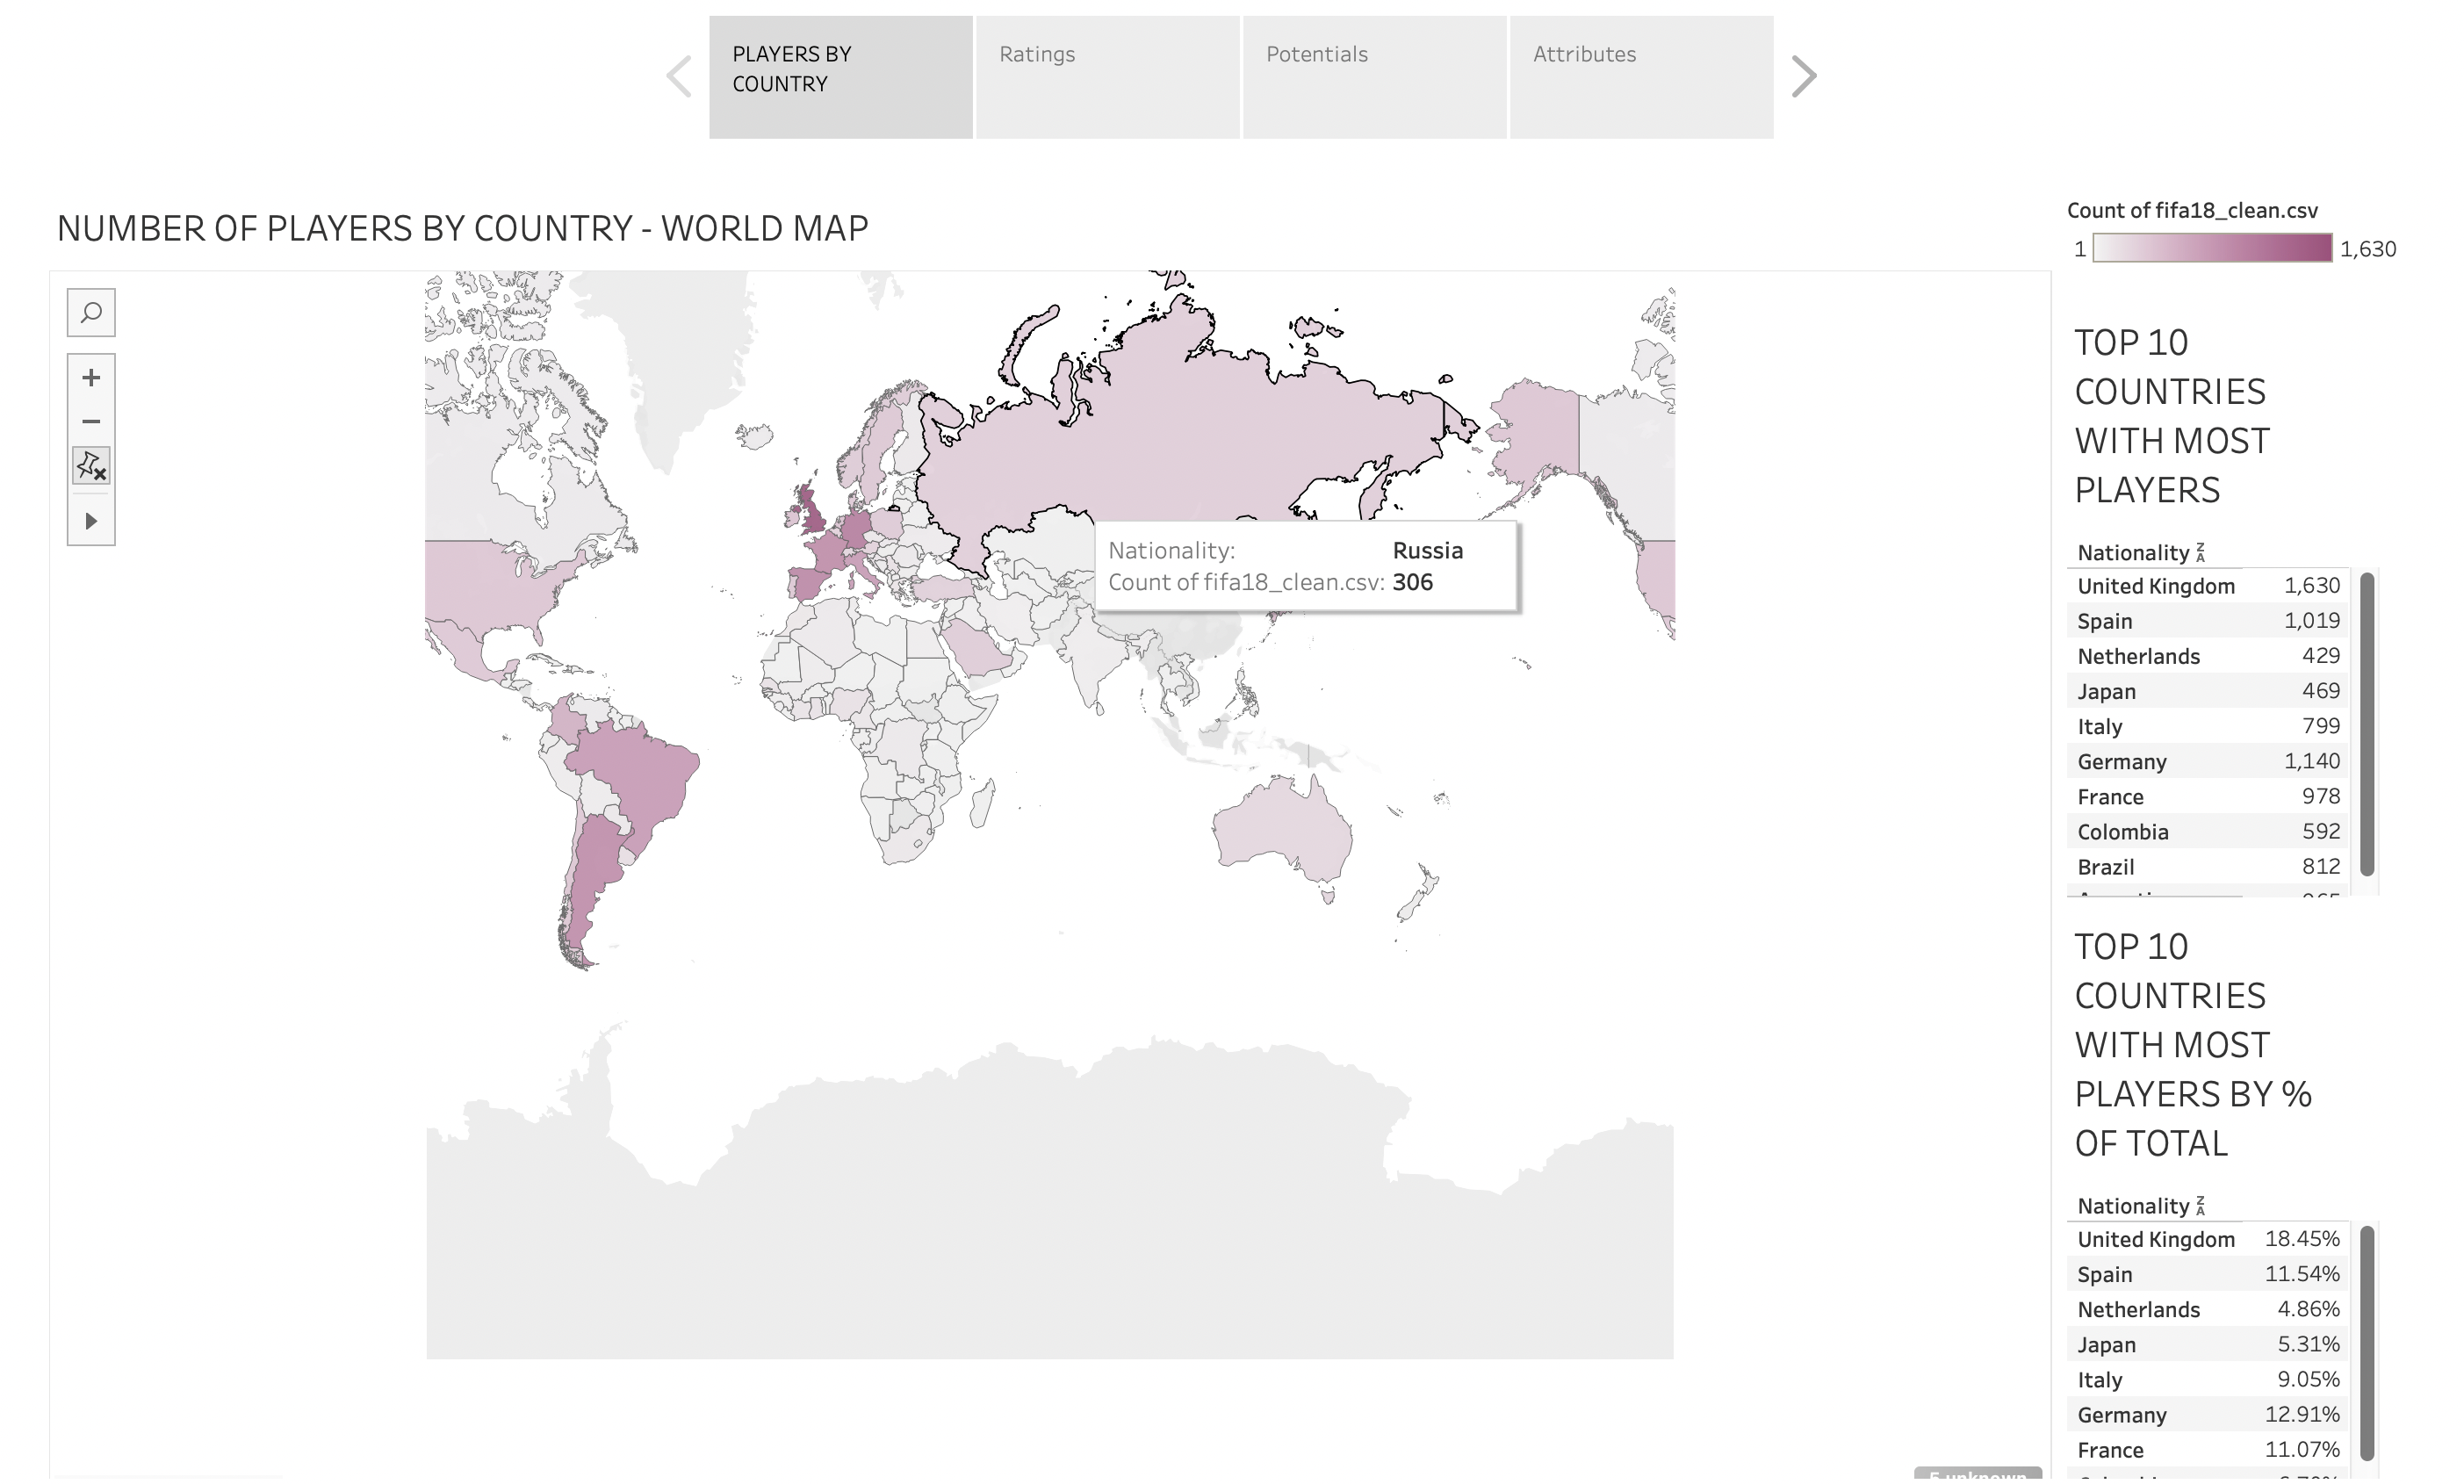

Layout of this report page (visuals, bound fields, positions):
{"tool":"tableau","page":{"name":"Dashboard 1","canvas":[1366,768],"ordinal":0},"visuals":[{"type":"worksheet","title":"NUMBER OF PLAYERS BY COUNTRY - WORLD MAP","mark":"Multipolygon","box":[8,8,1149,752]},{"type":"legend","title":"NUMBER OF PLAYERS BY COUNTRY - WORLD MAP","param":"[federated.04h0e6f06fnwup1cehh5w1lekxiw].[__tableau_internal_object_id__].[cnt:f","box":[1157,8,201,65]},{"type":"worksheet","title":"TOP 10 COUNTRIES WITH MOST PLAYERS","mark":"Automatic","rows":["Nationality"],"box":[1157,73,201,343.5]},{"type":"worksheet","title":"TOP 10 COUNTRIES WITH MOST PLAYERS BY % OF TOTAL","mark":"Automatic","rows":["Nationality"],"box":[1157,416.5,201,343.5]}]}

Visuals, with their boxes on the page's 1366x768 design canvas (x1, y1, x2, y2). These are canvas units, not pixel positions in the 2464x1484 screenshot, which may show the page scaled, cropped or inside an application window:
"NUMBER OF PLAYERS BY COUNTRY - WORLD MAP" worksheet (Multipolygon marks): <bbox>8, 8, 1157, 760</bbox>
"NUMBER OF PLAYERS BY COUNTRY - WORLD MAP" legend: <bbox>1157, 8, 1358, 73</bbox>
"TOP 10 COUNTRIES WITH MOST PLAYERS" worksheet: <bbox>1157, 73, 1358, 416</bbox>
"TOP 10 COUNTRIES WITH MOST PLAYERS BY % OF TOTAL" worksheet: <bbox>1157, 416, 1358, 760</bbox>
